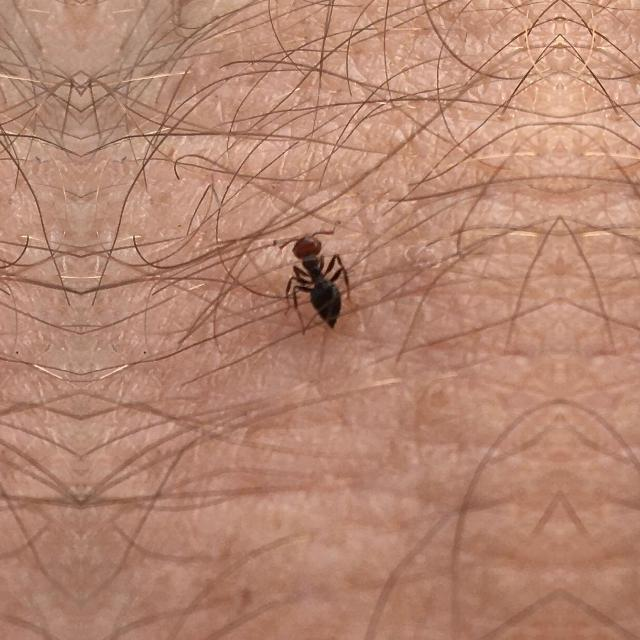Crematogaster: (272, 228, 360, 328)
